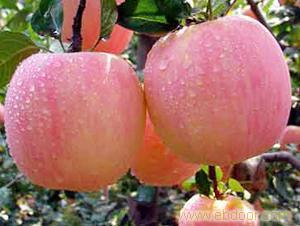apple: (144, 13, 291, 170), (3, 50, 147, 192)
